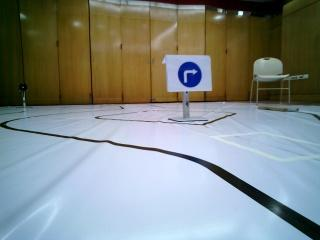right: (167, 57, 212, 94)
